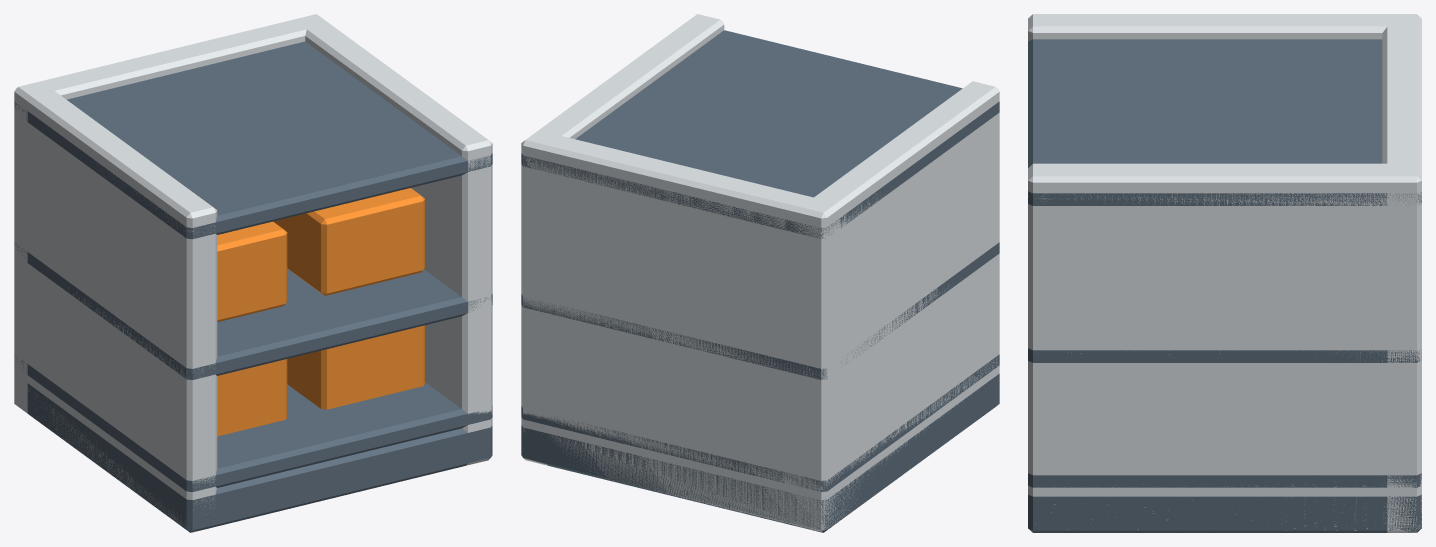
File: machine-store.fbx
3 views of the same model, side by side, from view 1: azimuth 30°, elevation 25°; view 2: azimuth 150°, elevation 25°; view 3: azimuth 270°, elevation 25° (orthographic). The views are drawn at different scales.
Parts seen in each view (by area): view 1: machine-store_Storage side.002, machine-store_Shelf.005, machine-store_Storage side.003, machine-store_Skid.001, machine-store_Shelf.004, machine-store_Shelf.003, machine-store_Stored crate.007, machine-store_Back.001, machine-store_Stored crate.005, machine-store_Stored crate.006, machine-store_Stored crate.004; view 2: machine-store_Back.001, machine-store_Storage side.002, machine-store_Shelf.005, machine-store_Skid.001, machine-store_Storage side.003, machine-store_Shelf.003, machine-store_Shelf.004; view 3: machine-store_Storage side.003, machine-store_Shelf.005, machine-store_Back.001, machine-store_Skid.001, machine-store_Storage side.002, machine-store_Shelf.003, machine-store_Shelf.004.
Boxes of the visible parts, x1,y1,x2,y2 form: machine-store_Storage side.002: [27, 86, 217, 532]; machine-store_Shelf.005: [14, 41, 492, 239]; machine-store_Storage side.003: [294, 14, 492, 465]; machine-store_Skid.001: [27, 383, 492, 532]; machine-store_Shelf.004: [14, 243, 492, 379]; machine-store_Shelf.003: [14, 355, 492, 491]; machine-store_Stored crate.007: [273, 188, 424, 295]; machine-store_Back.001: [14, 14, 329, 413]; machine-store_Stored crate.005: [287, 325, 424, 409]; machine-store_Stored crate.006: [217, 221, 287, 321]; machine-store_Stored crate.004: [217, 359, 287, 436]; machine-store_Back.001: [521, 130, 840, 532]; machine-store_Storage side.002: [798, 81, 999, 530]; machine-store_Shelf.005: [521, 30, 999, 238]; machine-store_Skid.001: [521, 373, 999, 532]; machine-store_Storage side.003: [521, 14, 724, 465]; machine-store_Shelf.003: [521, 354, 999, 491]; machine-store_Shelf.004: [521, 242, 999, 379]; machine-store_Storage side.003: [1028, 163, 1421, 530]; machine-store_Shelf.005: [1028, 39, 1421, 205]; machine-store_Back.001: [1382, 14, 1421, 532]; machine-store_Skid.001: [1028, 494, 1421, 532]; machine-store_Storage side.002: [1028, 14, 1421, 41]; machine-store_Shelf.003: [1028, 473, 1421, 487]; machine-store_Shelf.004: [1028, 348, 1421, 362].
Size of the model in its own units: 200 by 200 by 200.
